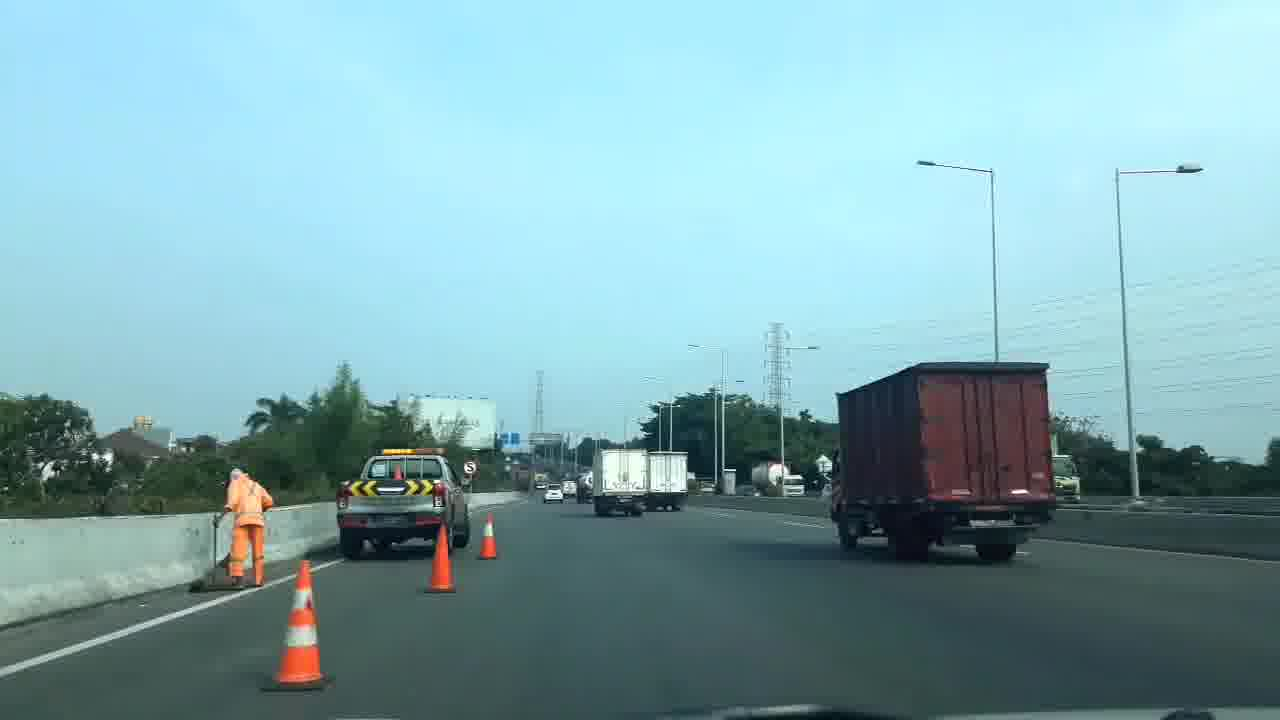plate_positive: (969, 517, 1018, 530)
